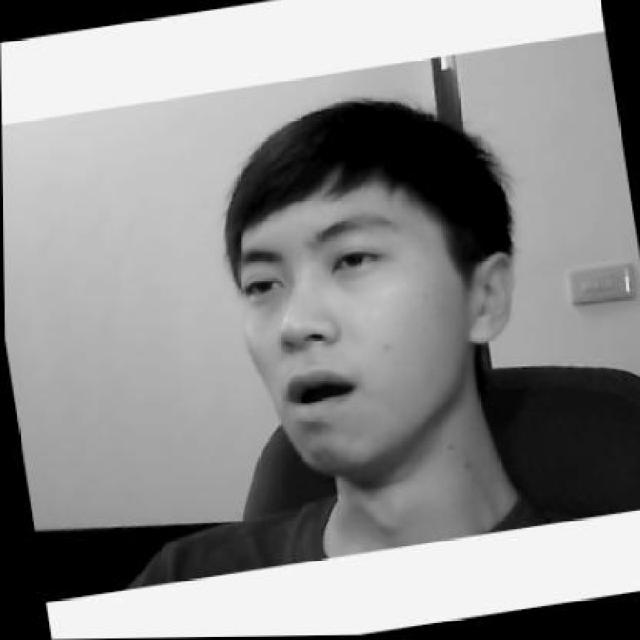inattentif: (204, 80, 536, 485)
